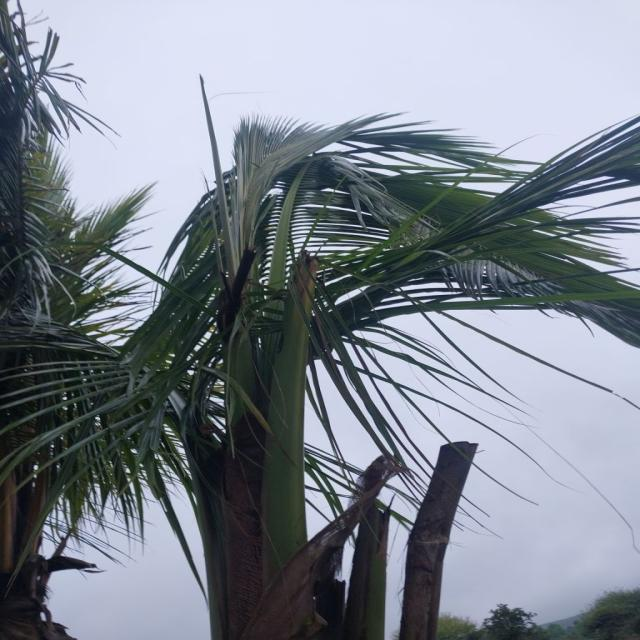bud root dropping: (123, 115, 638, 639)
